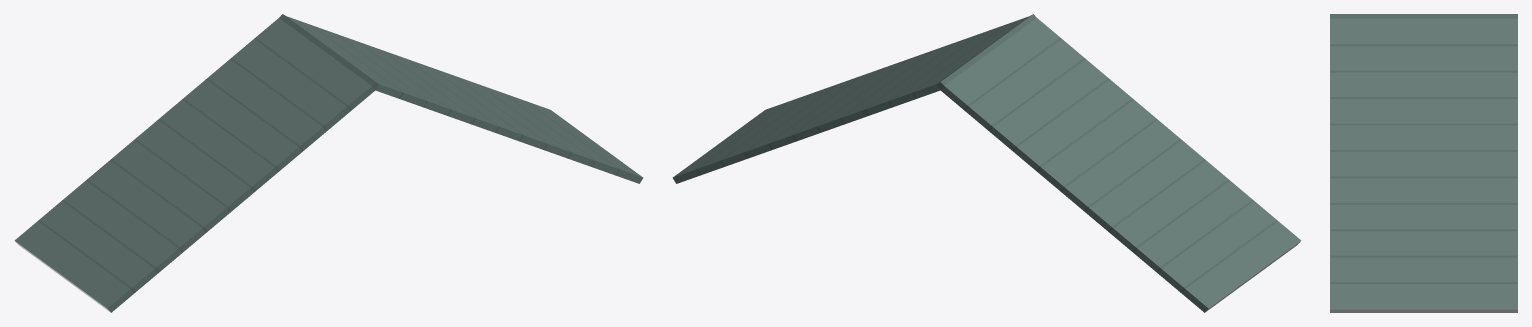
Rendered from Roof3_C6_01.fbx.
3 renders of one model, left to right at view 1: azimuth 30°, elevation 25°; view 2: azimuth 150°, elevation 25°; view 3: azimuth 270°, elevation 25°, orthographic.
Visible parts, largest first — view 1: Roof3_C6_01; view 2: Roof3_C6_01; view 3: Roof3_C6_01.
Part boxes in pixels (x1,y1,x2,y2): Roof3_C6_01: (14,14,643,312); Roof3_C6_01: (672,14,1301,312); Roof3_C6_01: (1330,14,1517,312).
Bounding box in the file's own units: 833 × 247 × 250.
